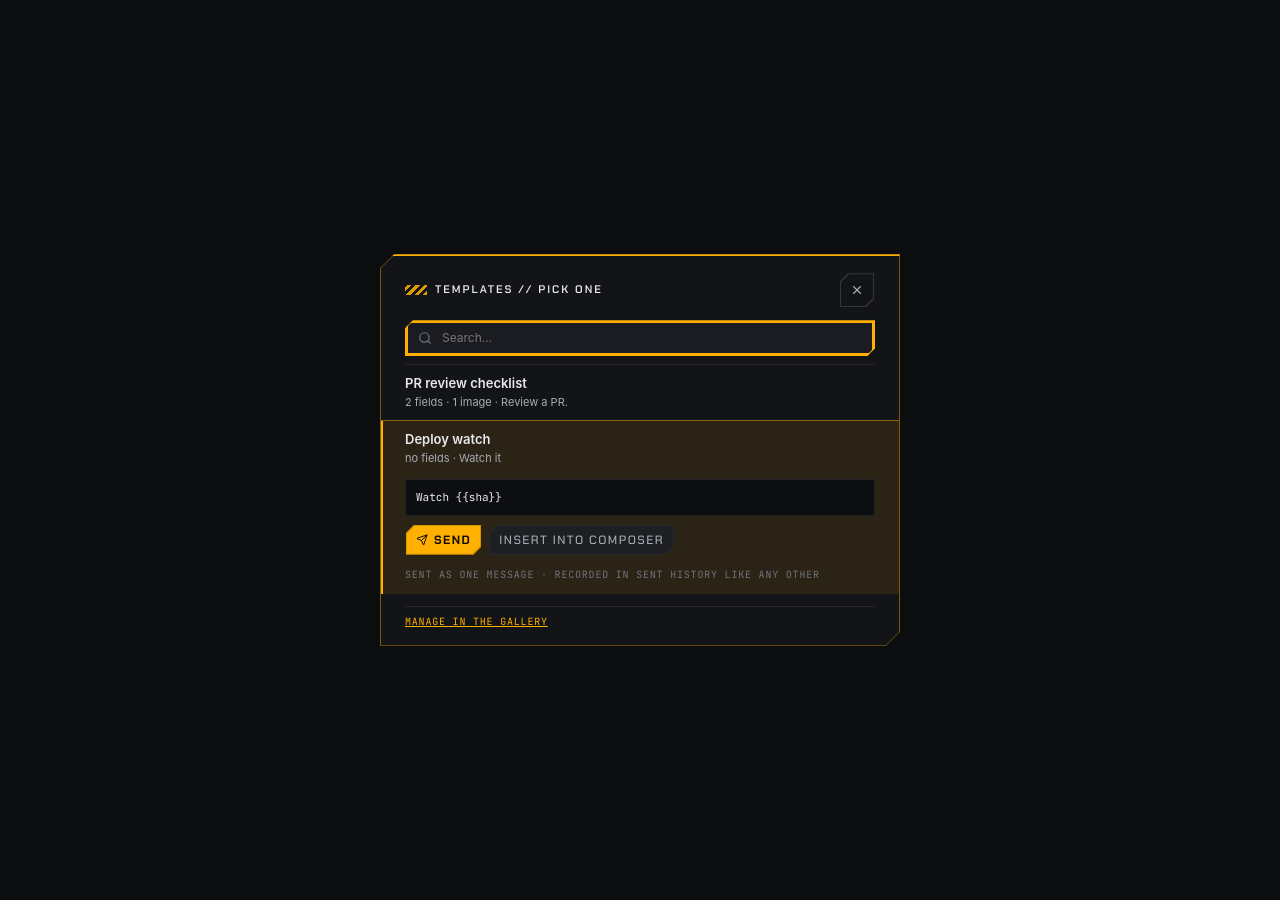
Test: preselect opens on that template with its defaults seeded; search narrows the list
Expected: the list named "templates" is shown, x1=405 y1=364 x2=875 y2=594
Expected: the button with aria-label "send deploy watch" is enabled, x1=405 y1=524 x2=482 y2=556
Type "review" into the search field named "search templates" at {"x": 651, "y": 338}, box x1=440 y1=329 x2=862 y2=348
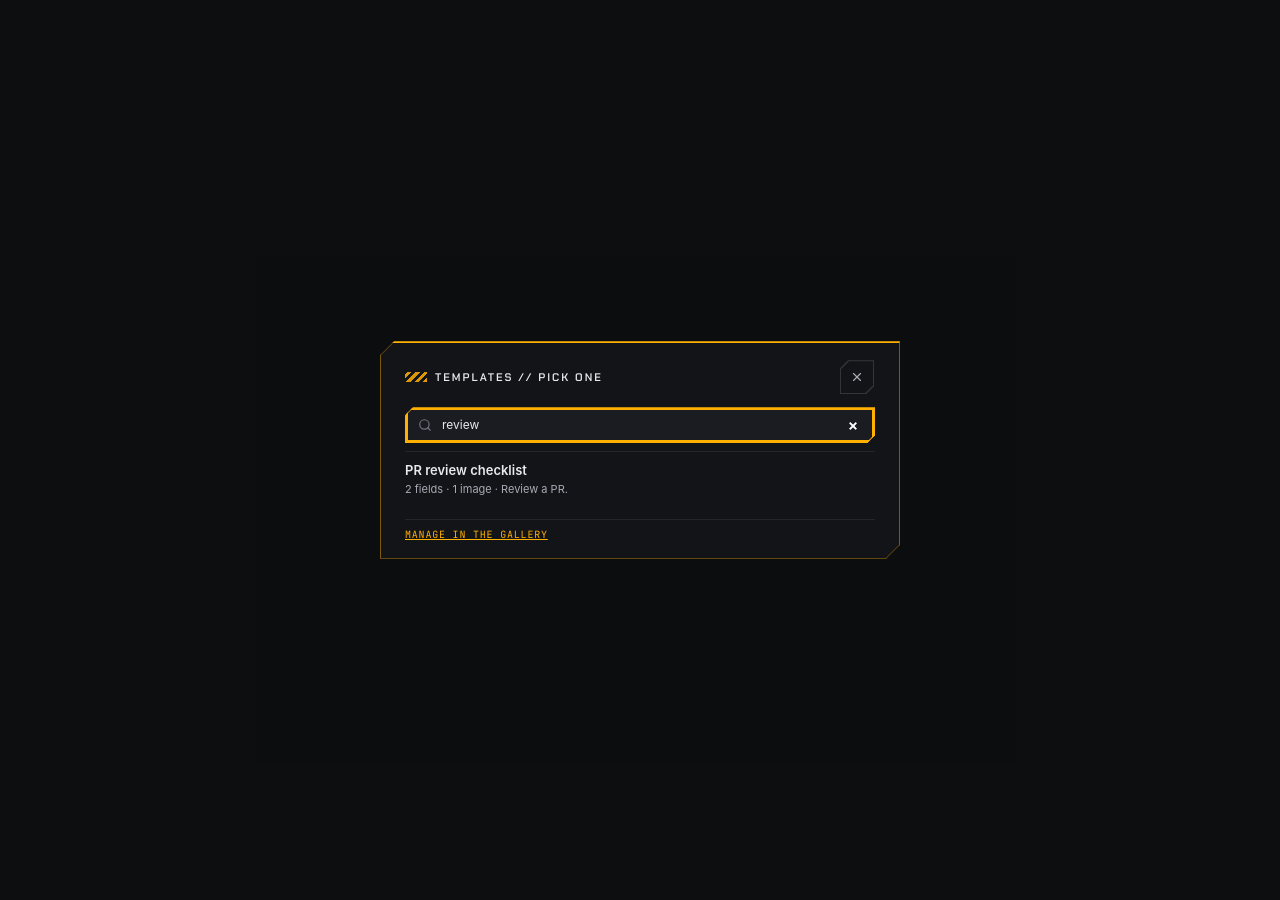
Expected: the text "PR review checklist" is shown, x1=405 y1=461 x2=527 y2=479
Expected: the number of list items is 1, x1=405 y1=451 x2=875 y2=507
